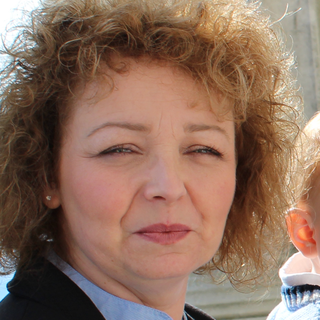eye: (93, 139, 145, 163), (180, 140, 226, 164)
